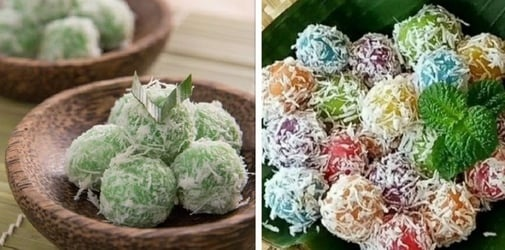klepon: (96, 141, 182, 237)
